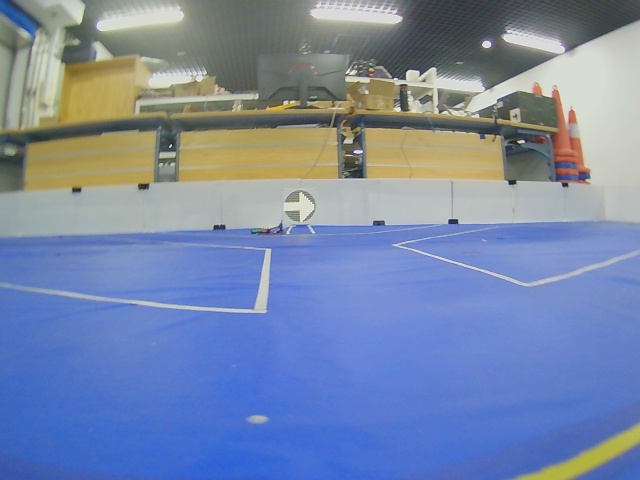right_yellow: (284, 190, 316, 223)
